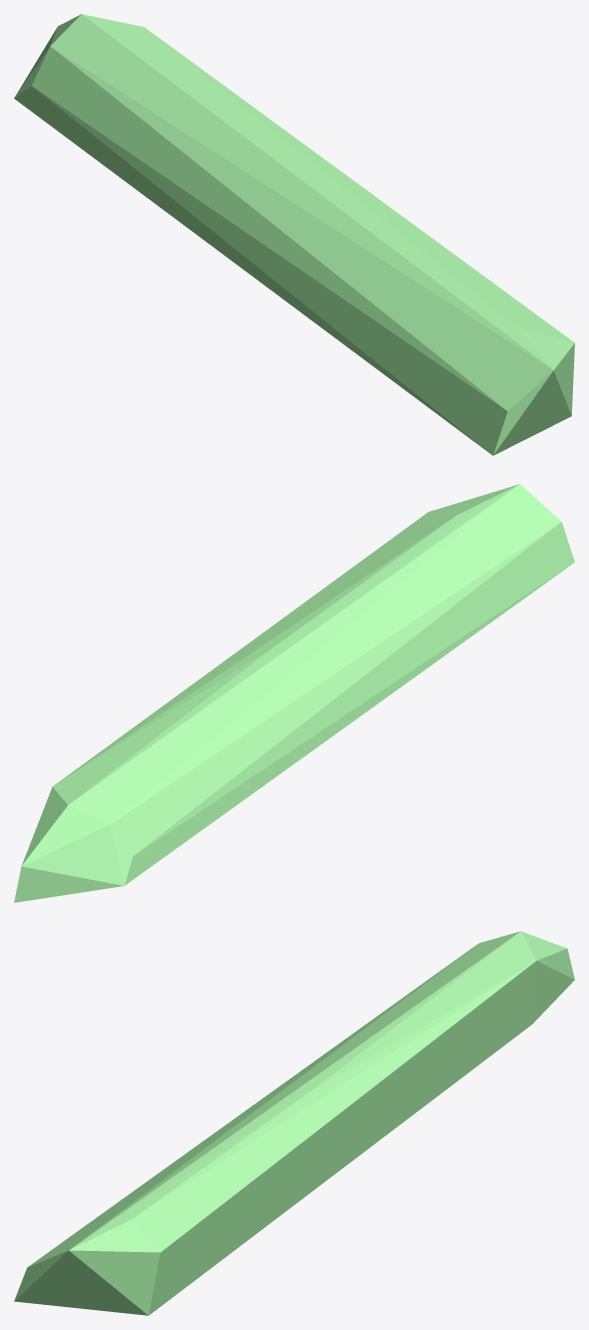
The model's file is UMIRobot_UMIRobot_link_3_convex_coll_18.dae.
The picture shows the model from 3 angles, top to bottom: view 1: azimuth 30°, elevation 25°; view 2: azimuth 150°, elevation 25°; view 3: azimuth 330°, elevation 25°; orthographic projection. The views are drawn at different scales.
Parts seen in each view (by area): view 1: node; view 2: node; view 3: node.
Part boxes in pixels (x1,y1,x2,y2): node: (14,14,574,455); node: (14,484,574,902); node: (14,931,574,1315).
Bounding box in the file's own units: 0.0159 × 0.0106 × 0.1198.
